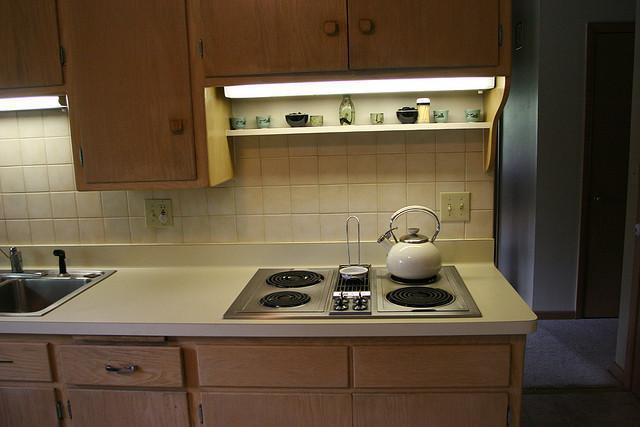Lavaplatos: (0, 249, 120, 318)
